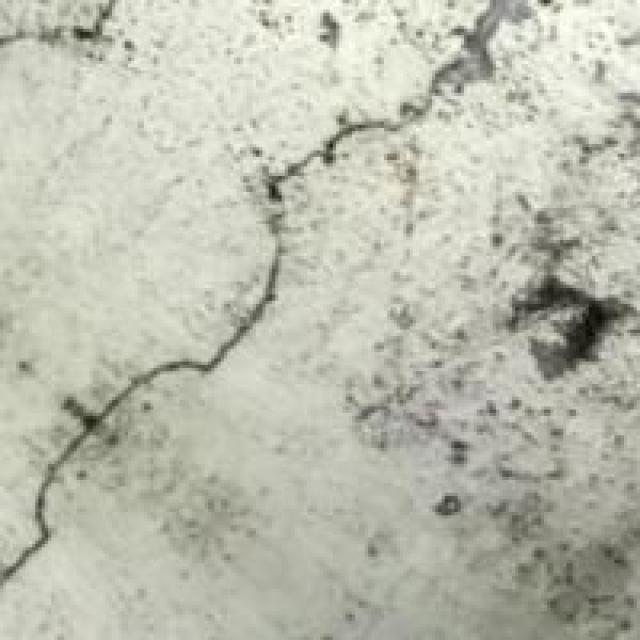Crack: (6, 29, 416, 637)
